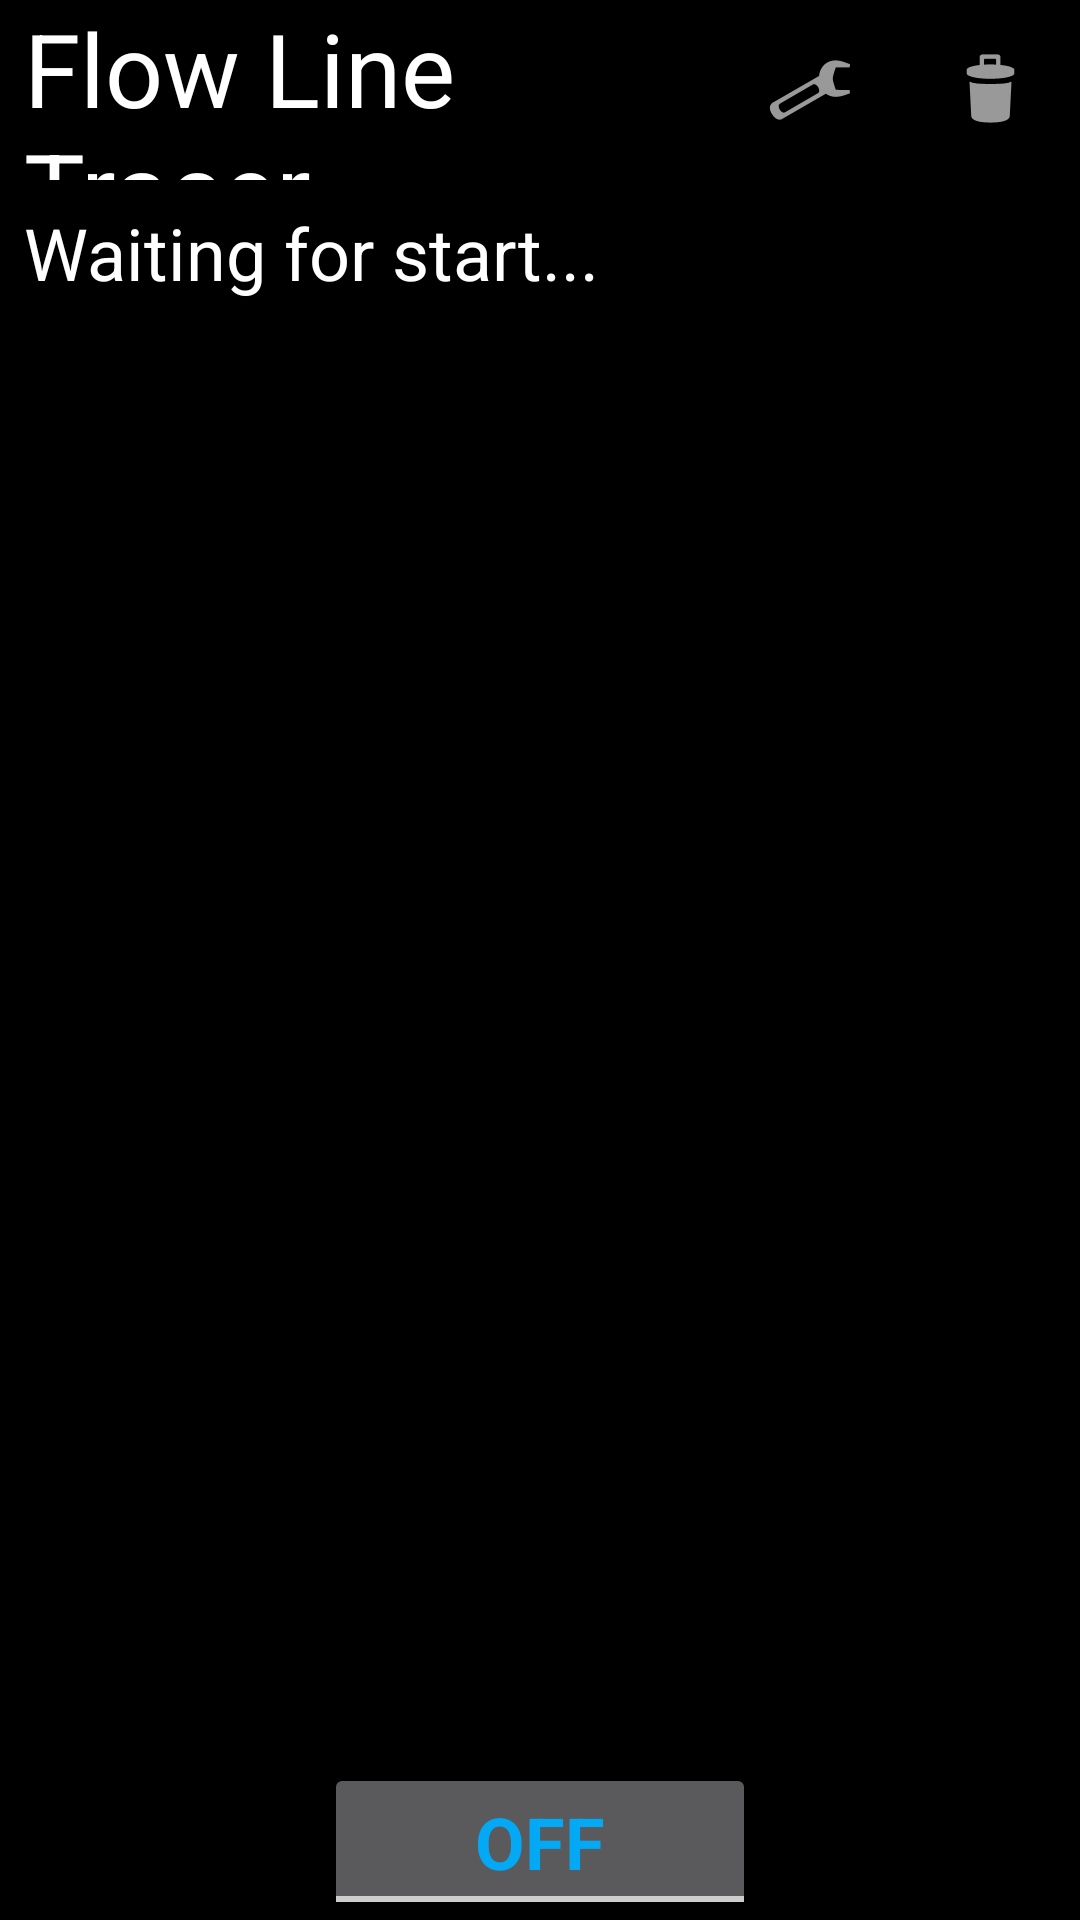

Icons on this 1080w x 1920h Android screen, each with its box as {"x1": x1, "y1": y1, "x2": x2, "y2": y2}:
Delete data: {"x1": 966, "y1": 54, "x2": 1015, "y2": 123}
Settings: {"x1": 770, "y1": 60, "x2": 850, "y2": 120}
